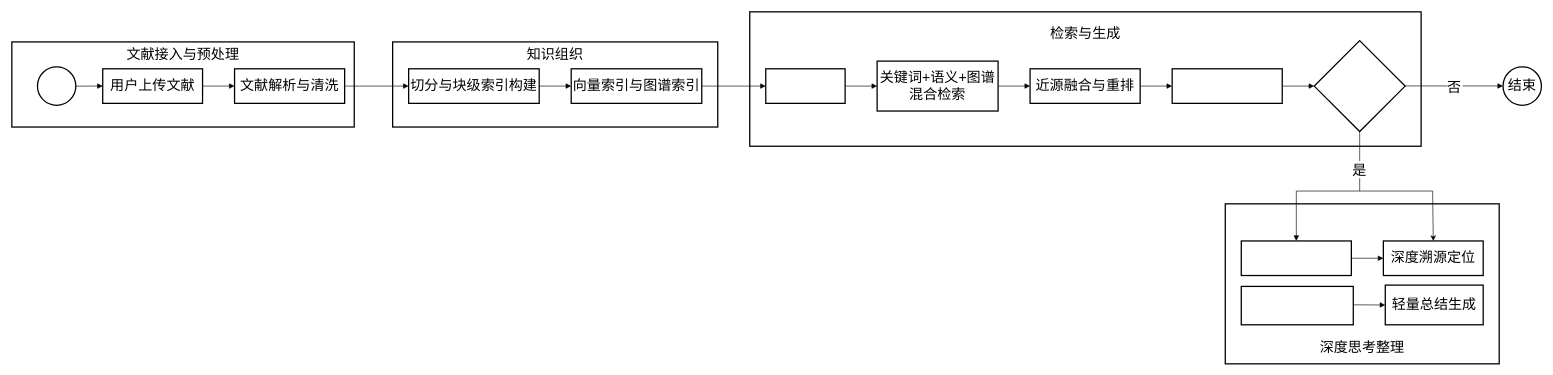
Some shapes in this 1553 by 375 pixel diagram are drawn without their labels. Each missing label, with the centre of its shape:
"开始" goes at pixel 56 86.
"引导拆解点生成" goes at pixel 1296 258.
"得到回答候选集" goes at pixel 1227 86.
"是否需要 深度思考" goes at pixel 1359 86.
"用户提问" goes at pixel 805 86.
"知识图谱展示" goes at pixel 1297 305.
